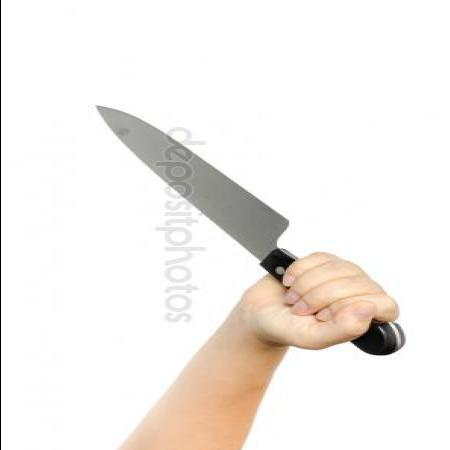long weapon: (88, 98, 350, 319)
